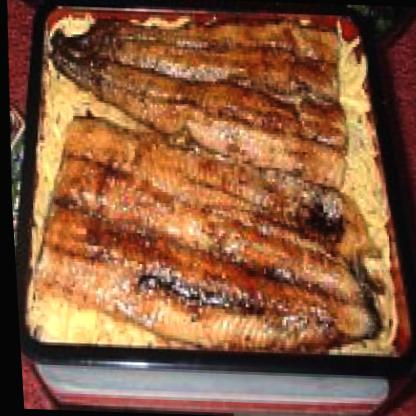eel: (25, 5, 366, 356)
